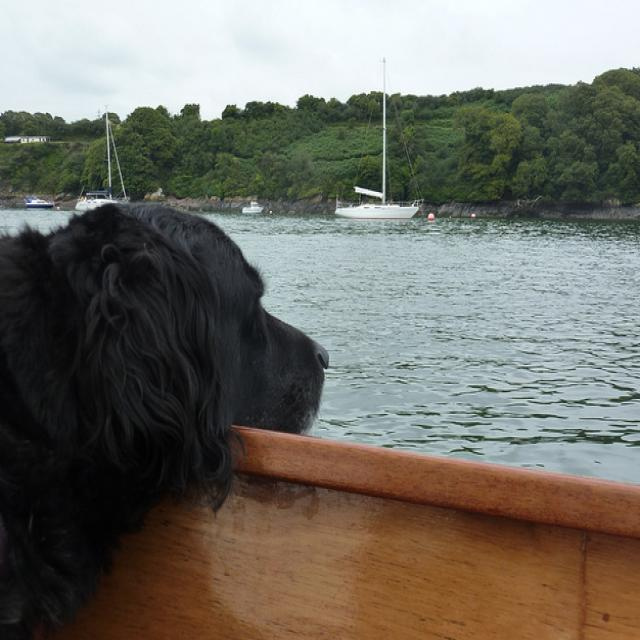houseboat: (330, 183, 428, 230)
